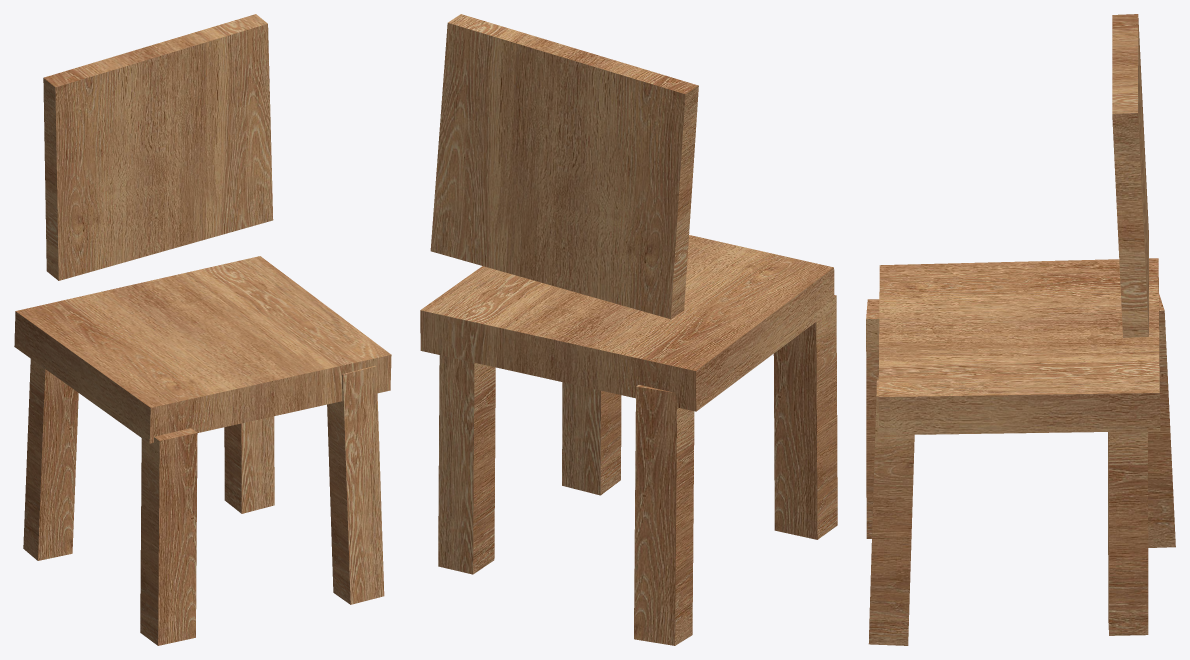
File: 41160_ours.glb
3 renders of one model, left to right at view 1: azimuth 30°, elevation 25°; view 2: azimuth 150°, elevation 25°; view 3: azimuth 270°, elevation 25°, orthographic. The views are drawn at different scales.
Parts seen in each view (by area): view 1: ParentEmpty; view 2: ParentEmpty; view 3: ParentEmpty.
Part boxes in pixels (<box>): ParentEmpty: <box>14,14,391,645</box>; ParentEmpty: <box>420,14,837,645</box>; ParentEmpty: <box>866,14,1175,645</box>.
Bounding box in the file's own units: 0.5229 × 1 × 0.5272.
Materials: 1 (1 with a texture image).
